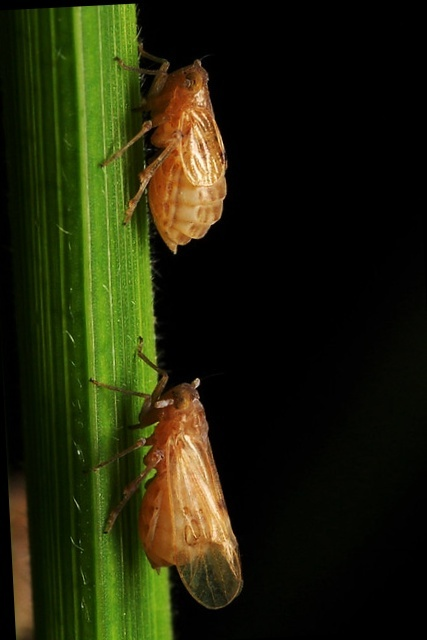Brown_hopper: (102, 321, 251, 597), (117, 20, 242, 277)
